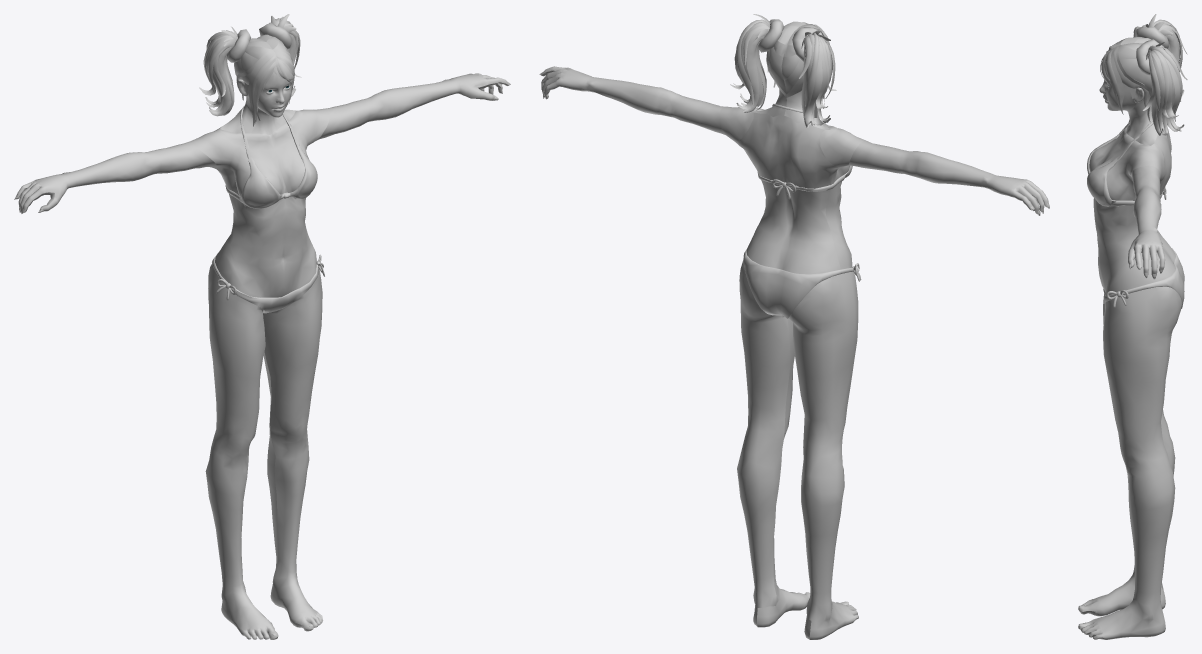
The model's file is bikini-beach-girl.fbx.
3 views of the same model, side by side, from view 1: azimuth 30°, elevation 25°; view 2: azimuth 150°, elevation 25°; view 3: azimuth 270°, elevation 25° (orthographic). The views are drawn at different scales.
Visible parts, largest first — view 1: Body, Hair, Bikini, Face; view 2: Body, Hair, Bikini; view 3: Body, Hair, Bikini, Face.
Part boxes in pixels (box(x1,y1,x2,y2)): Body: box(14, 22, 510, 639); Hair: box(199, 14, 301, 126); Bikini: box(212, 88, 324, 313); Face: box(236, 69, 292, 117); Body: box(539, 19, 1049, 639); Hair: box(730, 14, 836, 127); Bikini: box(743, 104, 861, 318); Body: box(1078, 24, 1182, 639); Hair: box(1100, 14, 1187, 135); Bikini: box(1087, 121, 1184, 308); Face: box(1099, 58, 1144, 110).
Bounding box in the file's own units: 32.94 × 37.75 × 6.31.
